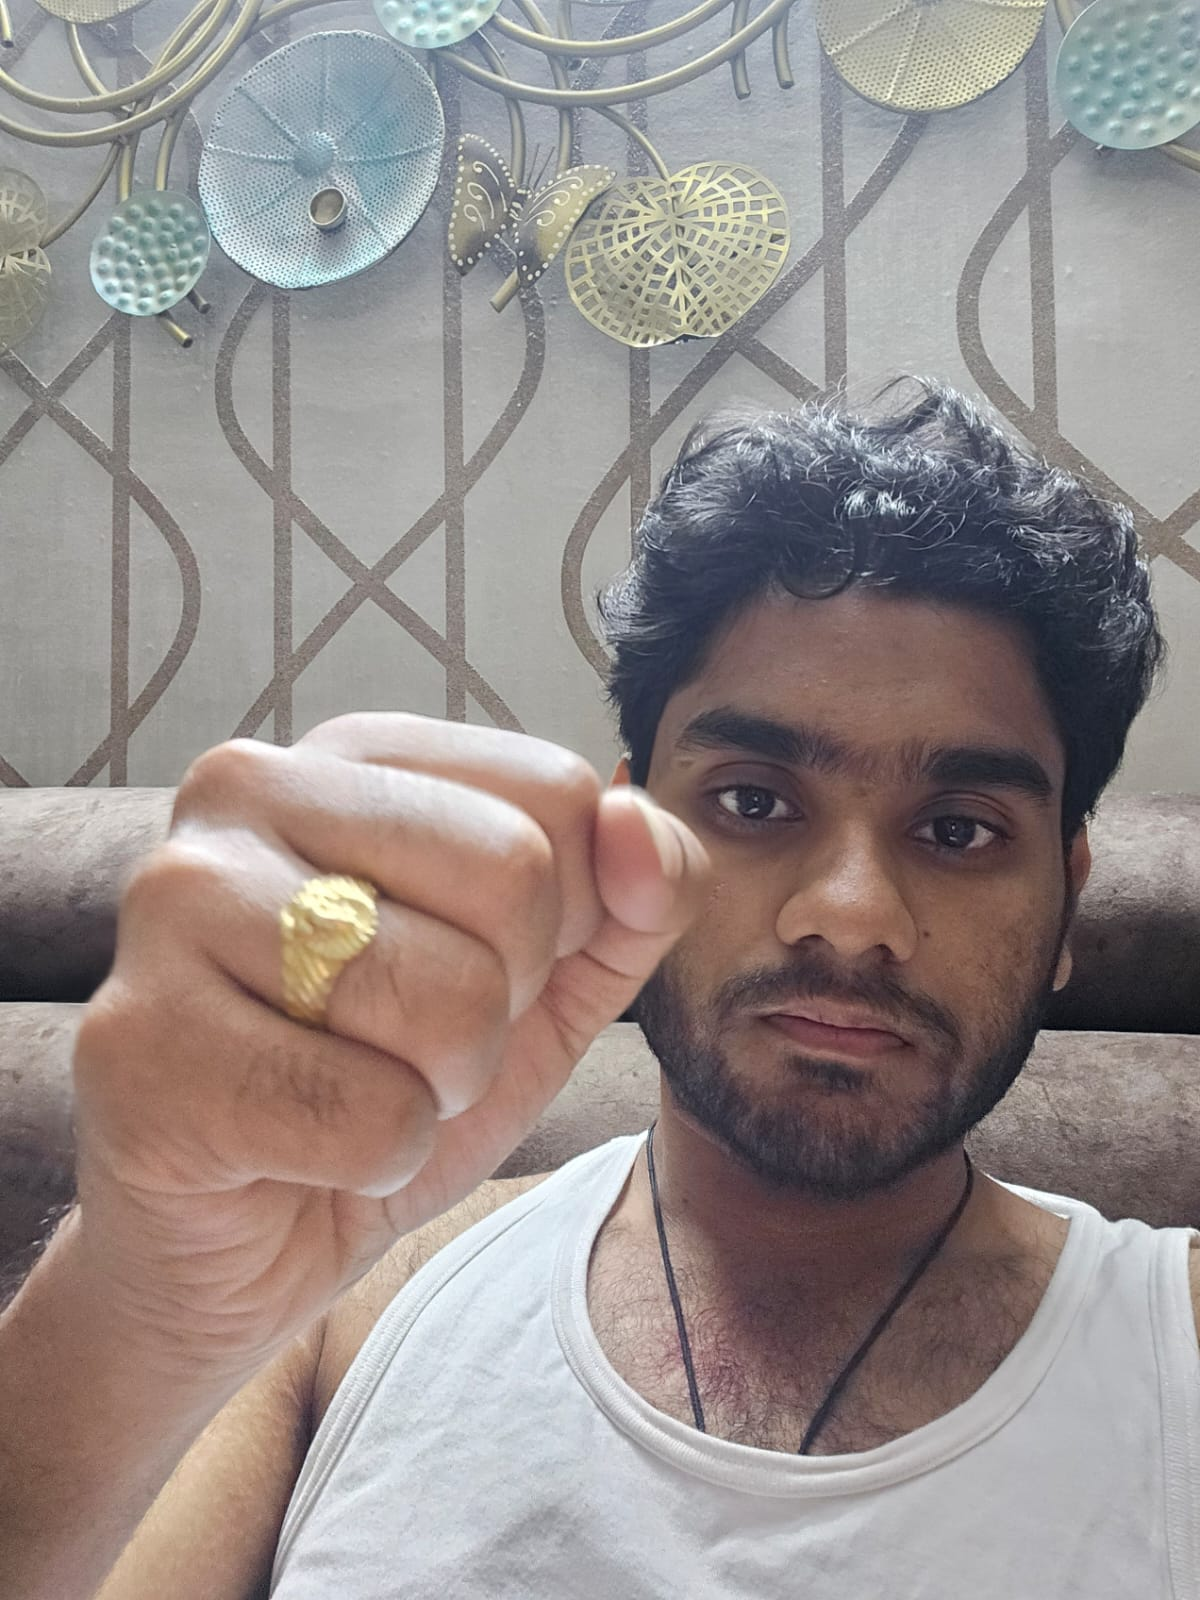yes: (71, 708, 711, 1338)
